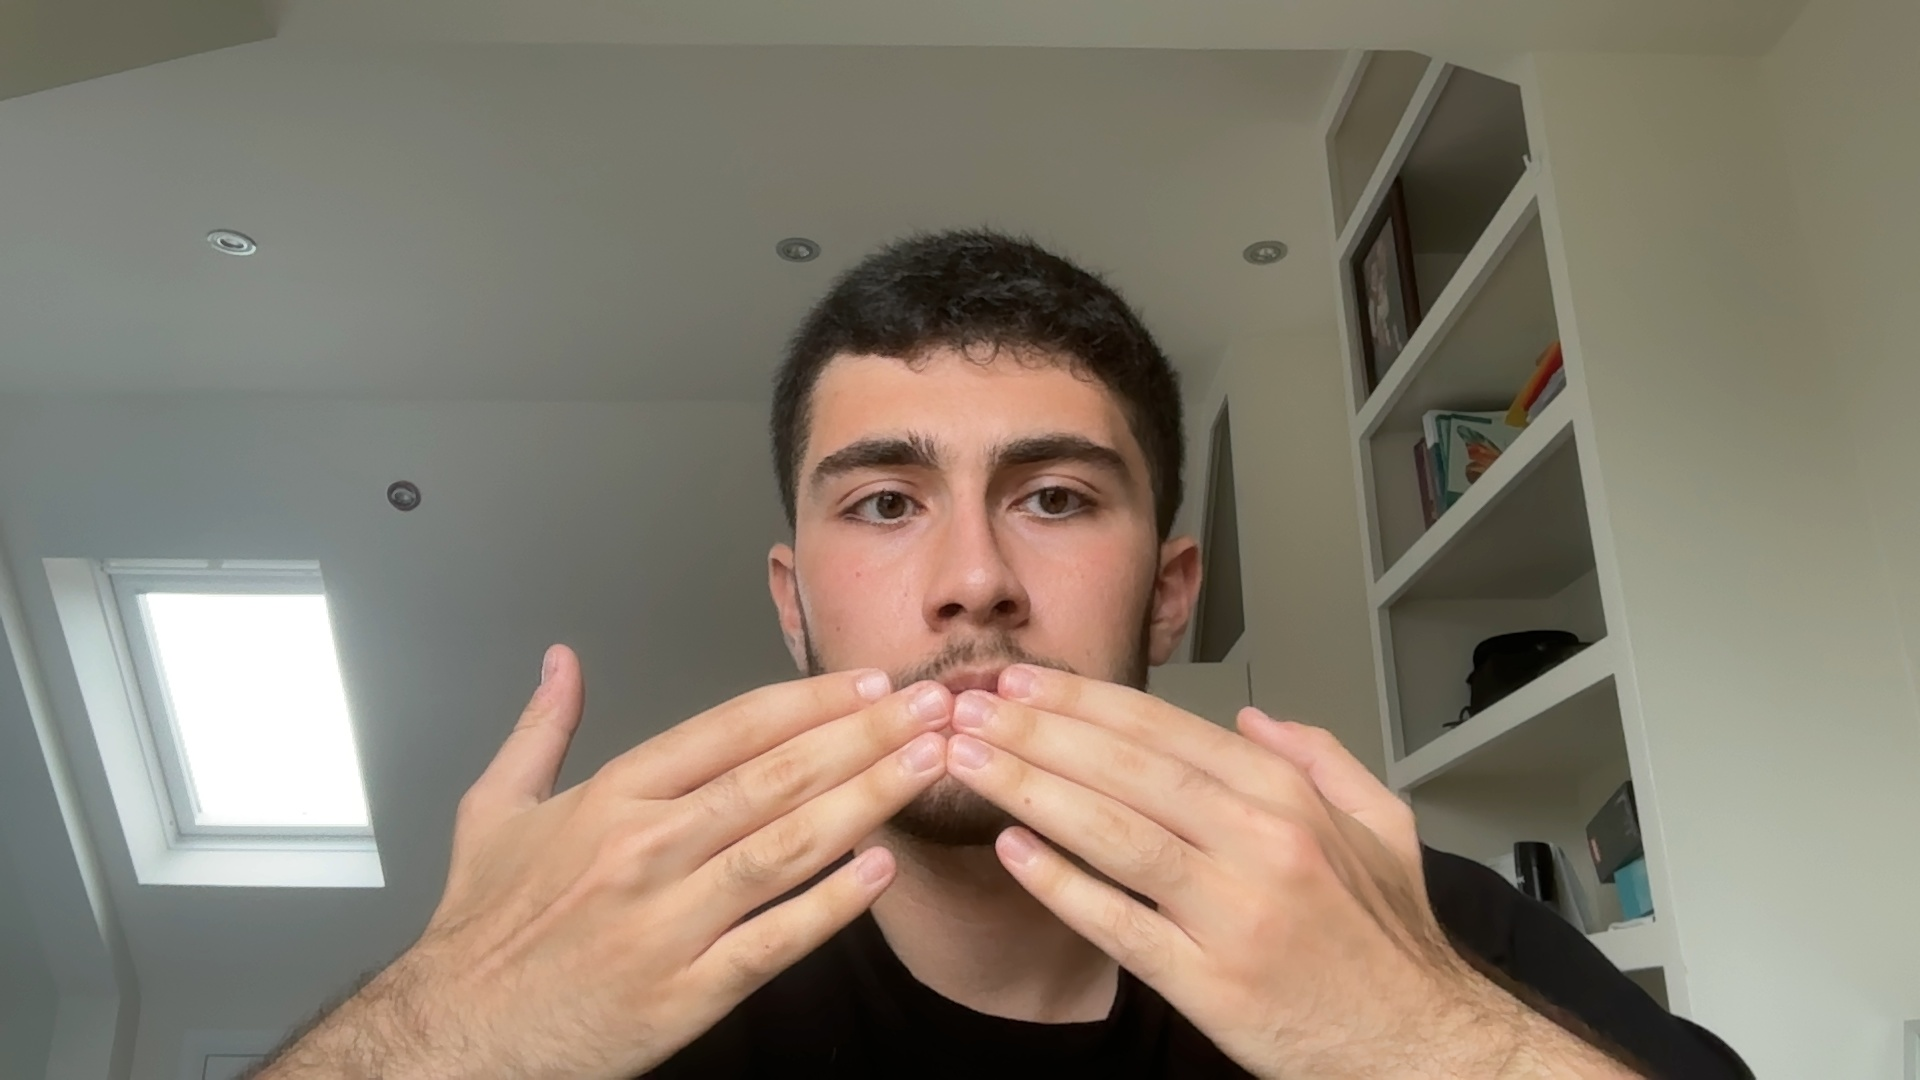Thank You: (301, 591, 1596, 1080)
